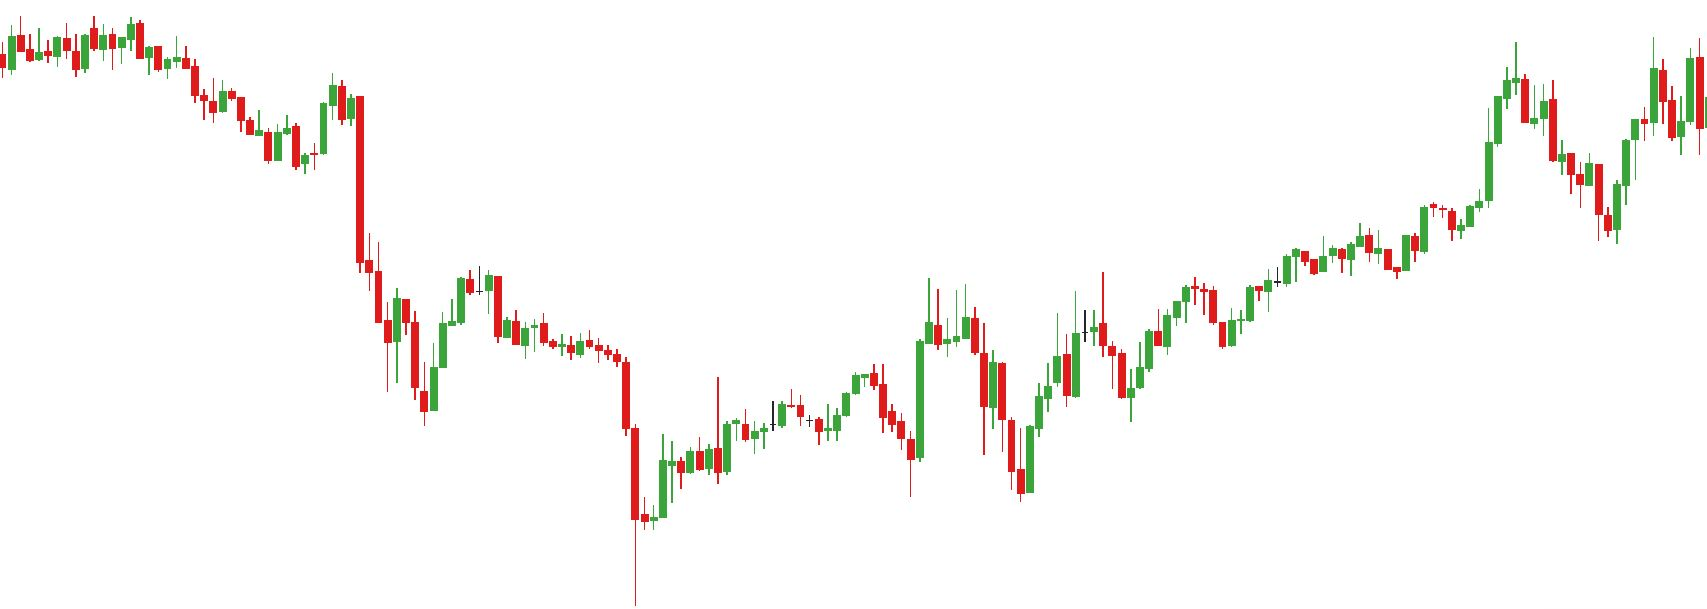buy: (902, 358, 1036, 504), (1063, 343, 1137, 430)
sell: (392, 265, 475, 360), (284, 64, 347, 155)
